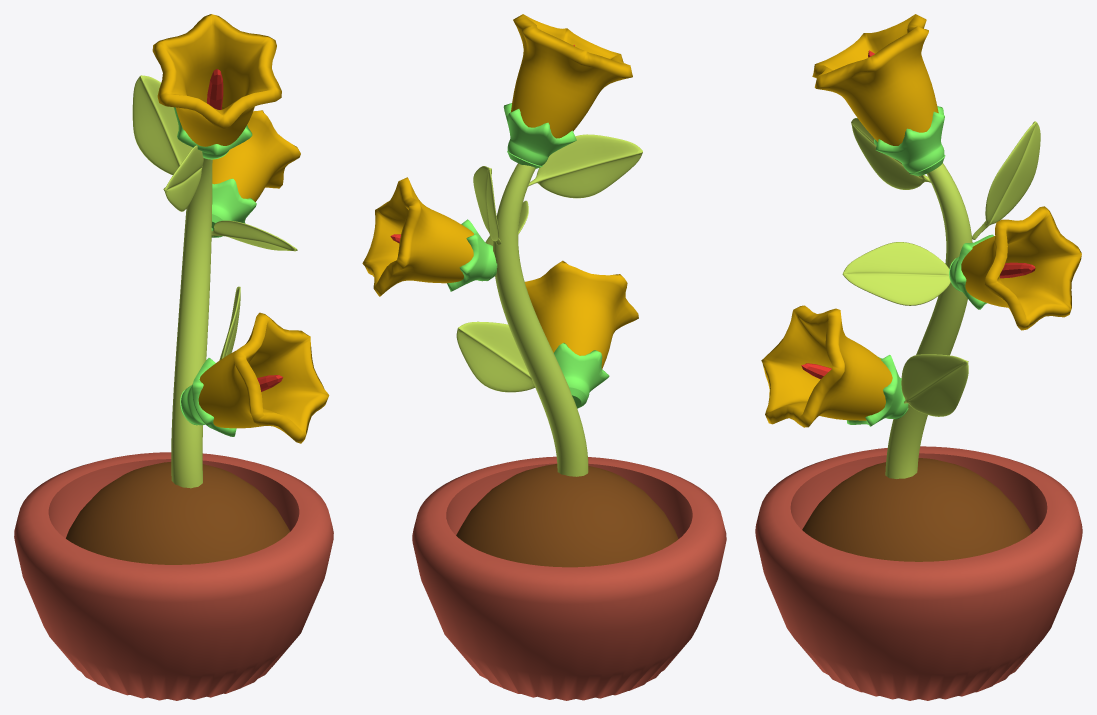
Rendered from Otoño1 1.fbx.
The picture shows the model from 3 angles, left to right: view 1: azimuth 30°, elevation 25°; view 2: azimuth 150°, elevation 25°; view 3: azimuth 270°, elevation 25°; orthographic projection. The views are drawn at different scales.
Visible parts, largest first — view 1: Circle.020; view 2: Circle.020; view 3: Circle.020.
Part boxes in pixels (x1,y1,x2,y2): Circle.020: [14, 14, 333, 700]; Circle.020: [362, 14, 726, 700]; Circle.020: [755, 14, 1082, 700].
Size of the model in its own units: 33.69 by 71.52 by 31.21.
